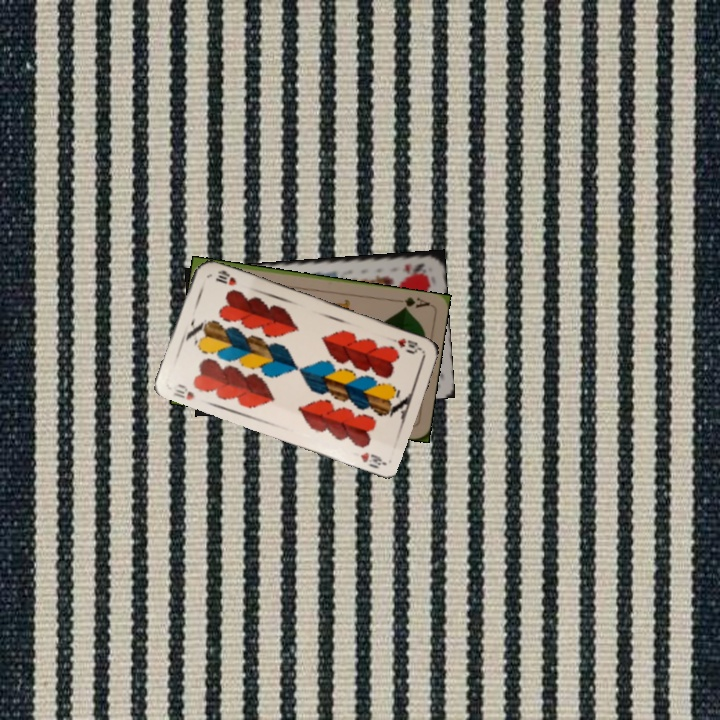GA: (392, 293, 433, 312)
H10: (385, 334, 425, 356), (169, 380, 197, 403)
HK: (400, 259, 427, 274)
